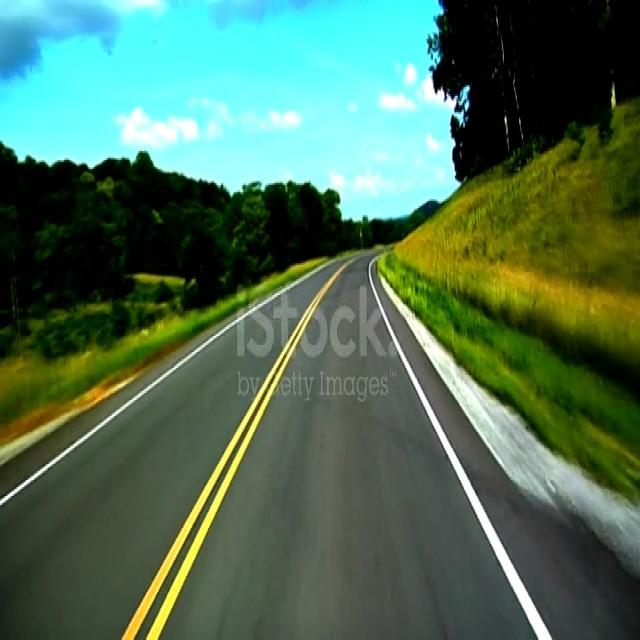lane: (122, 260, 349, 637), (0, 321, 235, 506), (400, 352, 550, 639)
road: (160, 251, 639, 635)
